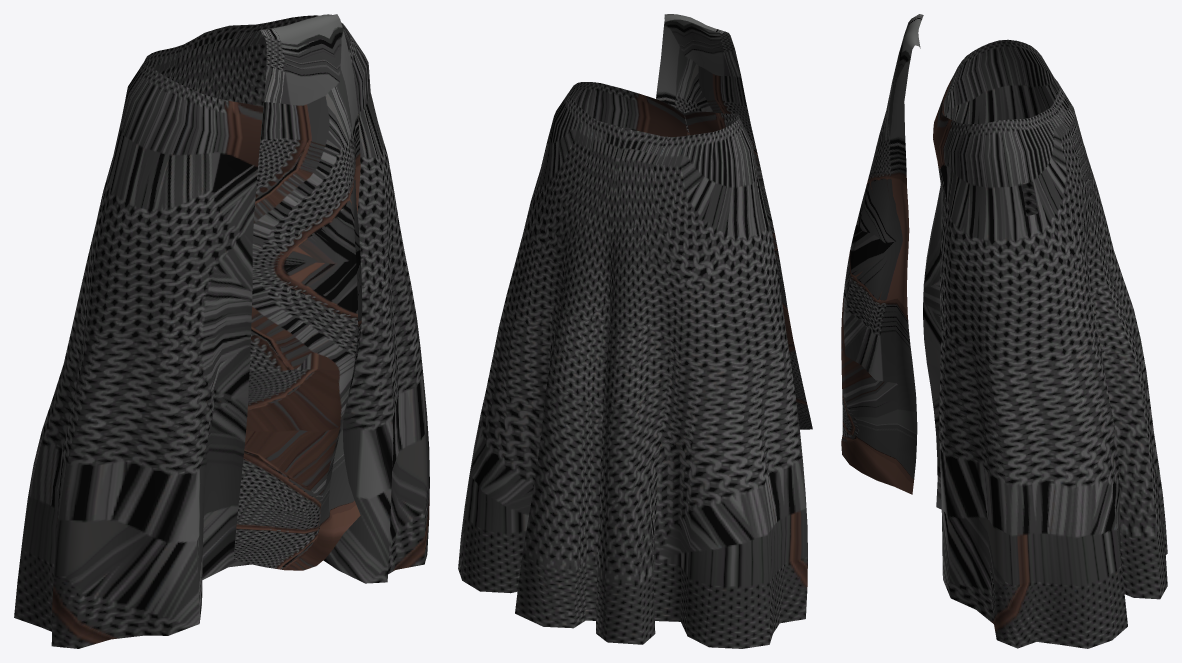
File: clo_rivendell_torso_lord1.fbx
The picture shows the model from 3 angles, left to right: view 1: azimuth 30°, elevation 25°; view 2: azimuth 150°, elevation 25°; view 3: azimuth 270°, elevation 25°; orthographic projection. The views are drawn at different scales.
Parts seen in each view (by area): view 1: clo_rivendell_torso_lord1; view 2: clo_rivendell_torso_lord1; view 3: clo_rivendell_torso_lord1.
Part boxes in pixels (left/top/right/bottom): clo_rivendell_torso_lord1: left=14, top=14, right=429, bottom=648; clo_rivendell_torso_lord1: left=458, top=14, right=812, bottom=648; clo_rivendell_torso_lord1: left=841, top=14, right=1167, bottom=648.
Size of the model in its own units: 0.6018 by 0.5182 by 0.9674.
1 material, 1 textured.
